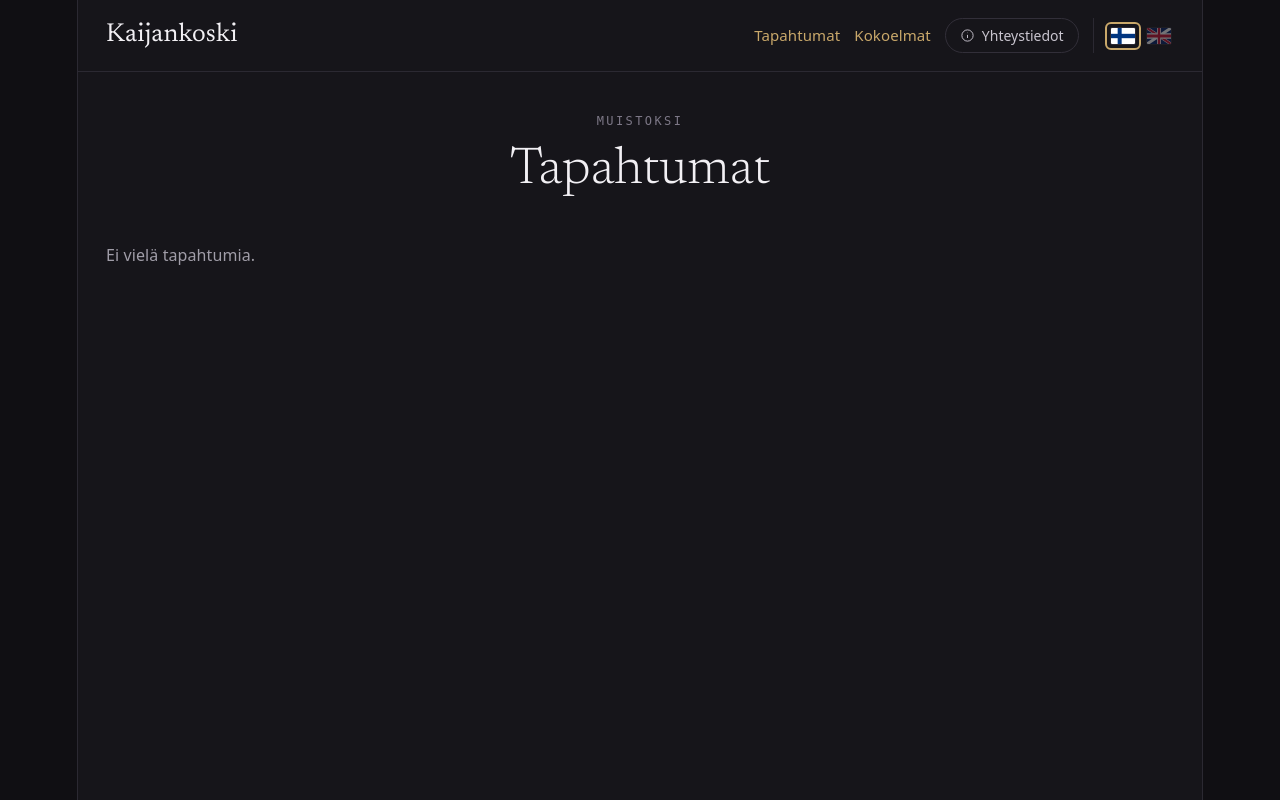
Test: i18n EventsIndex integration › switches to en via the real switcher and persists the choice
Check: the text "Ei vielä tapahtumia." is shown, box [106,244,255,266]
// Drive the REAL setLang through the REAL switcher button.
Click the button named "english" at [1159, 36], box [1144,24,1174,46]
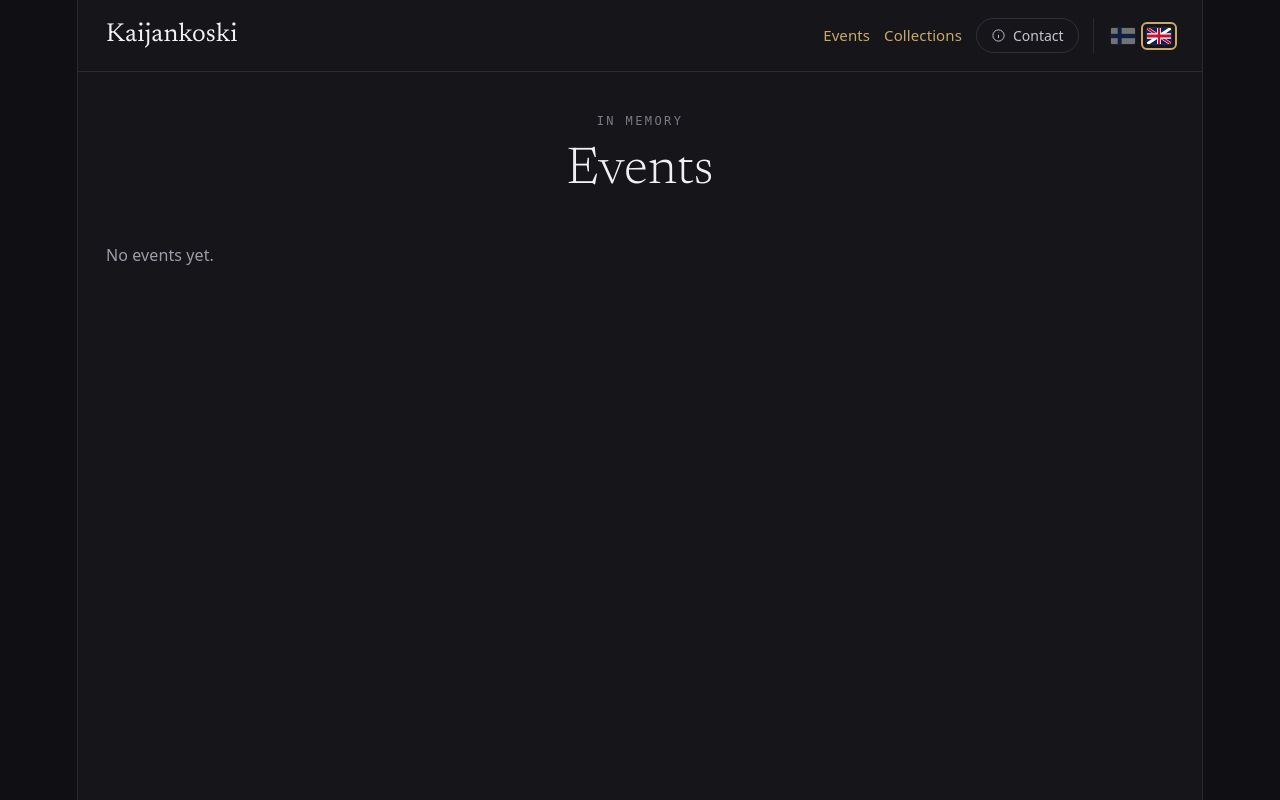
Check: the text "No events yet." is shown, box [106,244,214,266]
Check: the text "Ei vielä tapahtumia." is gone
Check: the heading "Events" is shown, box [567,145,713,197]
